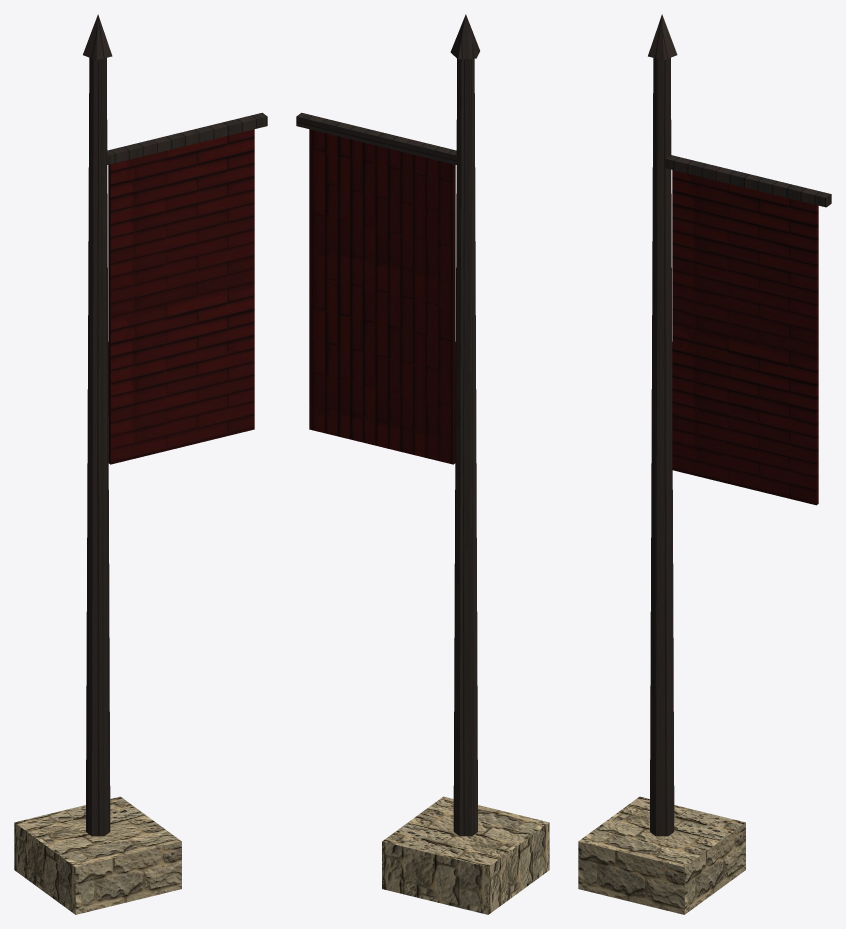
File: banner_pole_01.glb
3 views of the same model, side by side, from view 1: azimuth 30°, elevation 25°; view 2: azimuth 150°, elevation 25°; view 3: azimuth 330°, elevation 25° (orthographic).
Visible parts, largest first — view 1: banner_pole_01; view 2: banner_pole_01; view 3: banner_pole_01.
Part boxes in pixels (left/top/right/bottom): banner_pole_01: left=14, top=14, right=267, bottom=914; banner_pole_01: left=296, top=14, right=549, bottom=914; banner_pole_01: left=578, top=14, right=831, bottom=914.
Bounding box in the file's own units: 1.45 × 5.45 × 0.7.
Materials: 3 (3 with a texture image).
